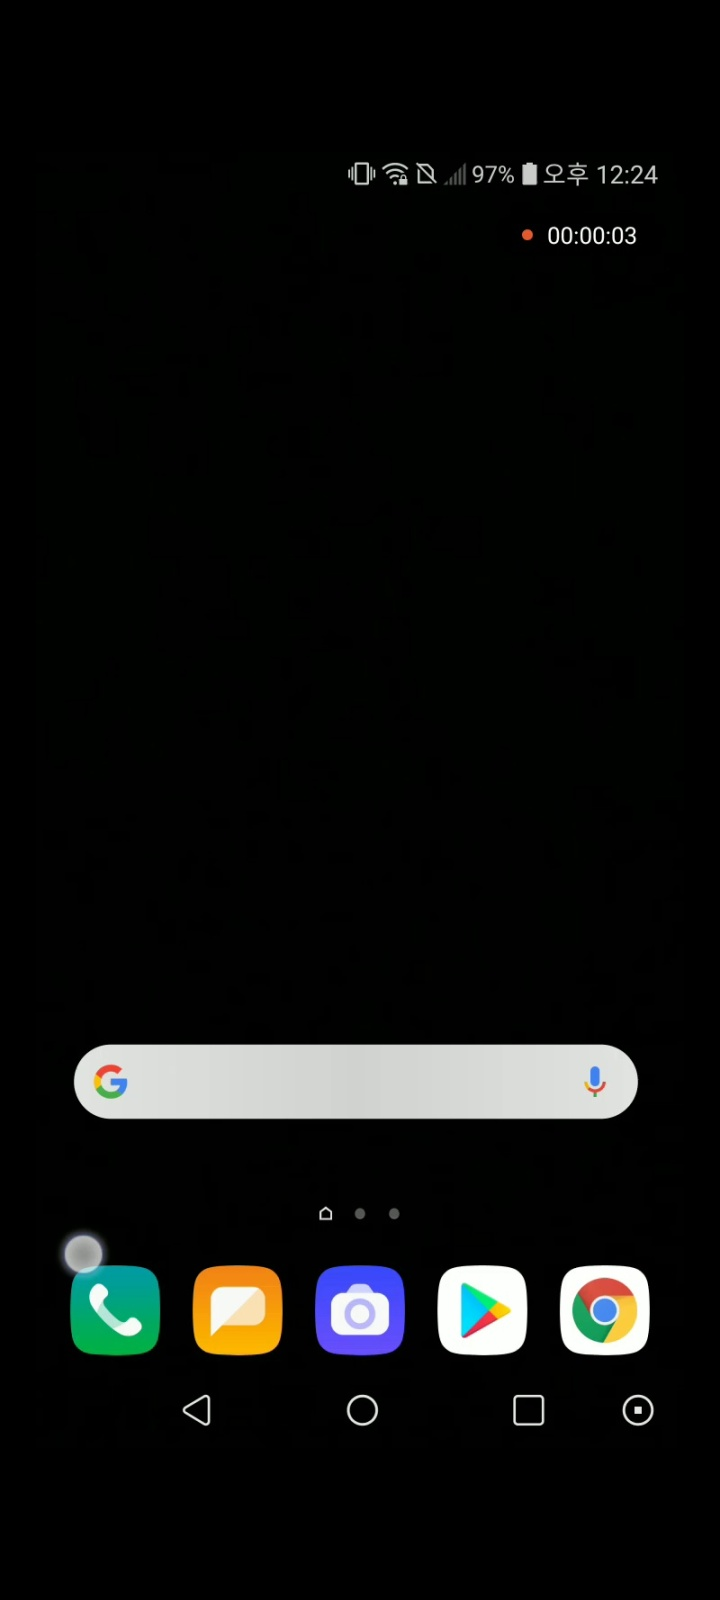Cursor: (63, 1232, 108, 1277)
